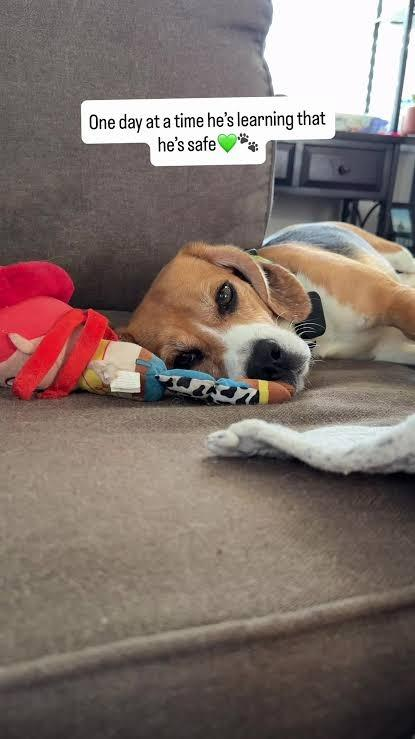adult_dog: (119, 222, 415, 394)
